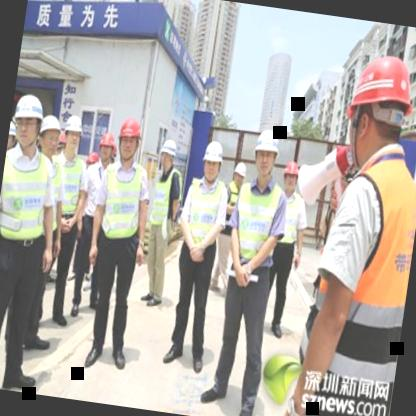helmet: (339, 48, 416, 170), (10, 92, 48, 147), (250, 124, 282, 181), (114, 112, 145, 164), (198, 138, 227, 183), (36, 112, 64, 156), (57, 113, 82, 156), (155, 133, 180, 176), (278, 155, 301, 196), (94, 129, 117, 166), (228, 158, 249, 188)
